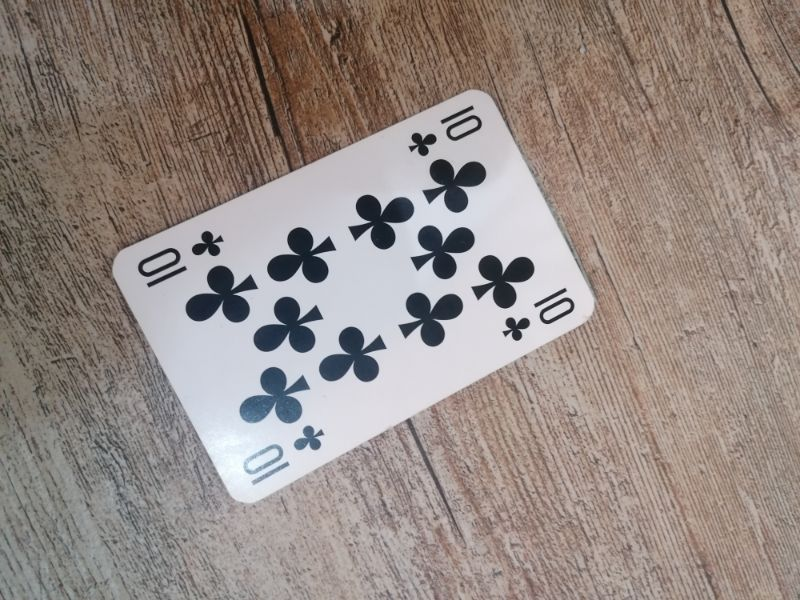Tc: (243, 419, 329, 490), (137, 226, 228, 290), (498, 282, 578, 345), (406, 100, 485, 160)
